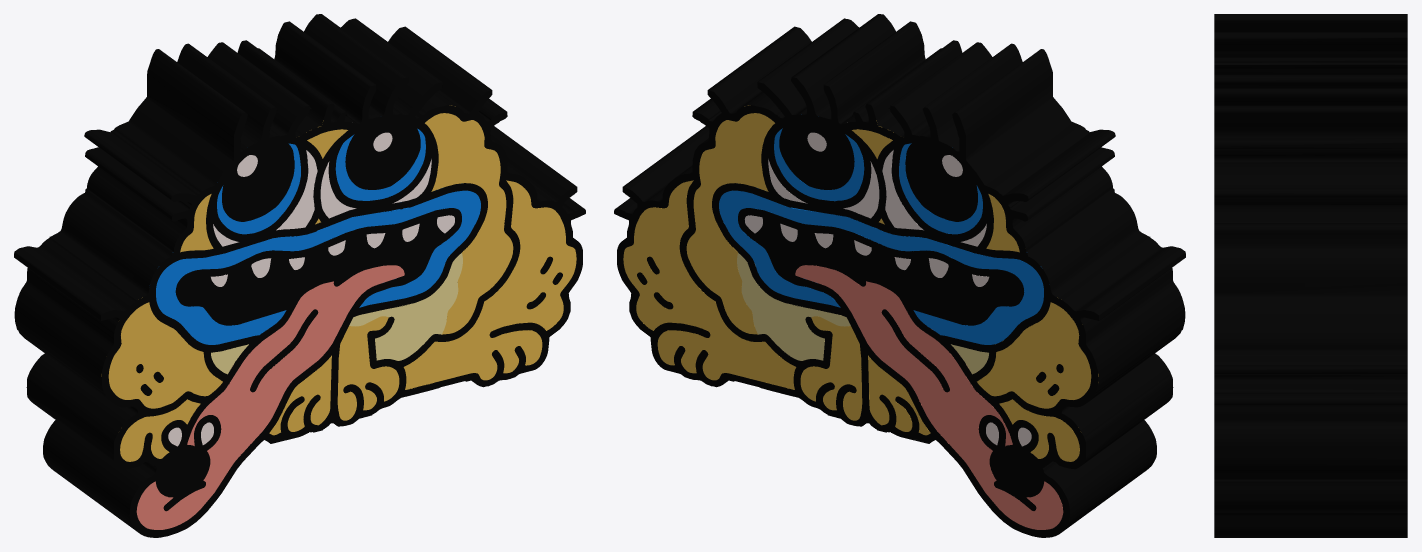
Rendered from Toadz_936.glb.
3 renders of one model, left to right at view 1: azimuth 30°, elevation 25°; view 2: azimuth 150°, elevation 25°; view 3: azimuth 270°, elevation 25°, orthographic. The views are drawn at different scales.
Visible parts, largest first — view 1: Curve; view 2: Curve; view 3: Curve.
Boxes of the visible parts, <box> form: Curve: <box>14,14,585,537</box>; Curve: <box>614,14,1185,537</box>; Curve: <box>1214,14,1407,537</box>.
Size of the model in its own units: 3.22 by 2.57 by 1.
